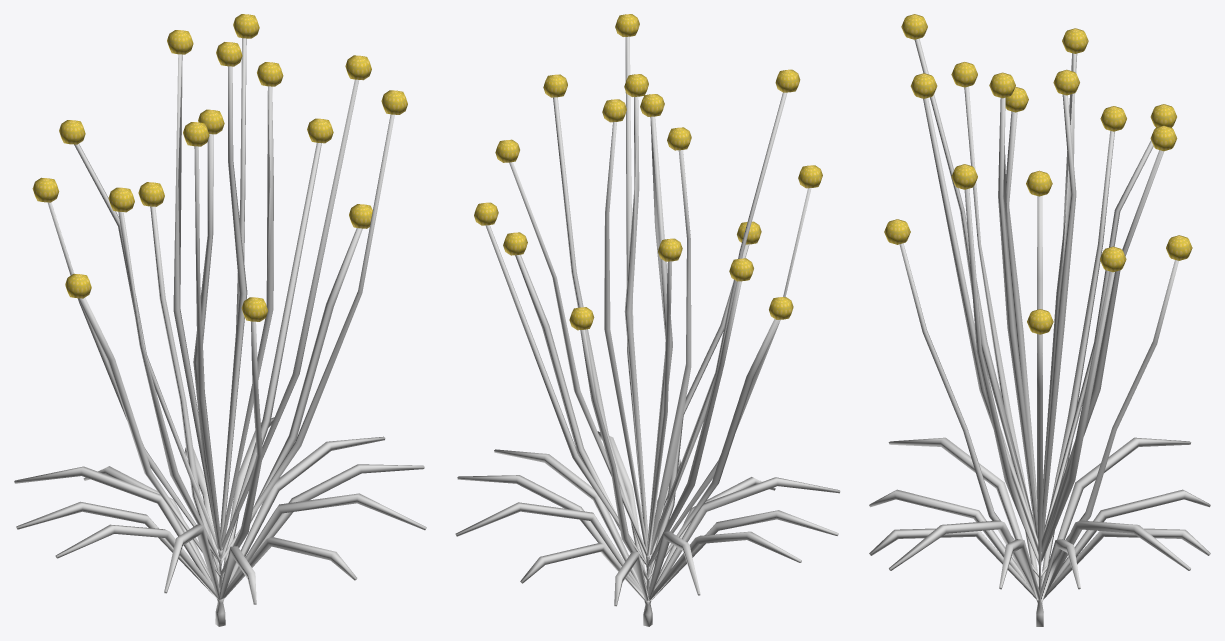
Rendered from Billybutton 1.fbx.
The picture shows the model from 3 angles, left to right: view 1: azimuth 30°, elevation 25°; view 2: azimuth 150°, elevation 25°; view 3: azimuth 270°, elevation 25°; orthographic projection. The views are drawn at different scales.
Visible parts, largest first — view 1: BillybuttonStem; view 2: BillybuttonStem; view 3: BillybuttonStem.
Boxes of the visible parts, x1,y1,x2,y2 form: BillybuttonStem: [14, 14, 426, 626]; BillybuttonStem: [455, 14, 840, 626]; BillybuttonStem: [869, 14, 1210, 626].
Bounding box in the file's own units: 44.82 × 68.92 × 36.18.
Materials: 2 (1 with a texture image).
